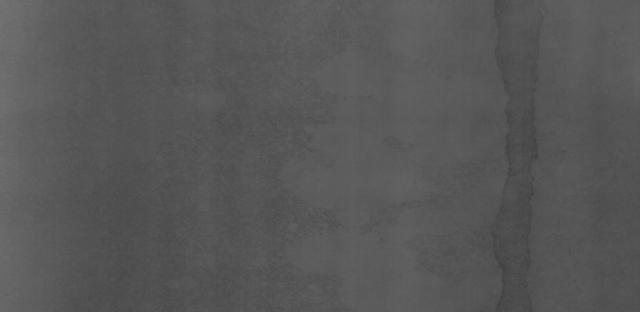water_spot: (453, 13, 558, 312)
